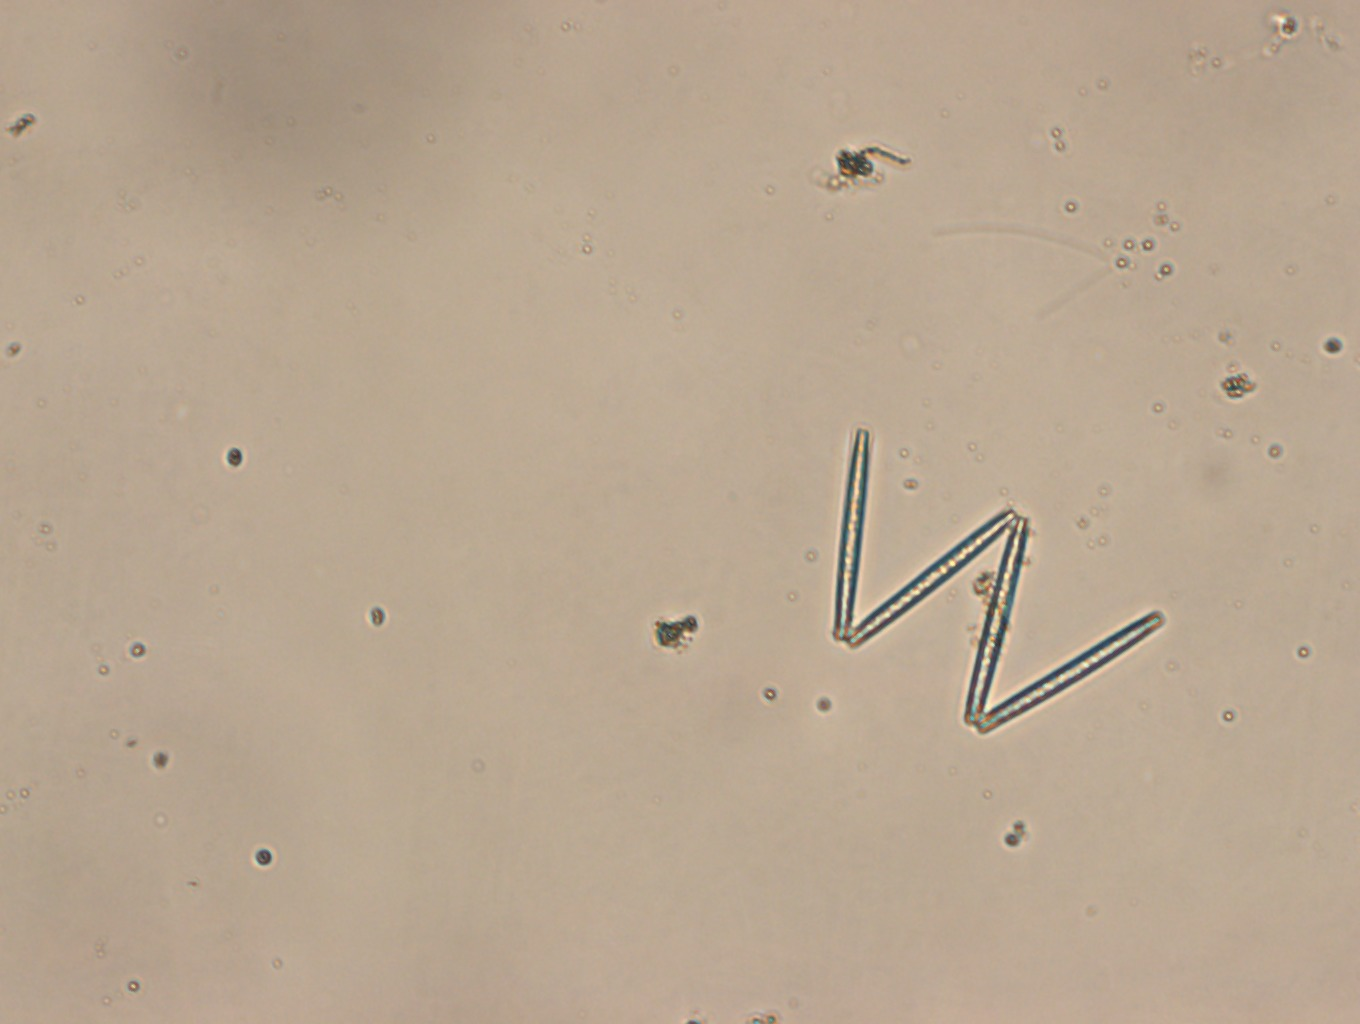thalassionema nitzschioides: (825, 425, 1166, 736)
